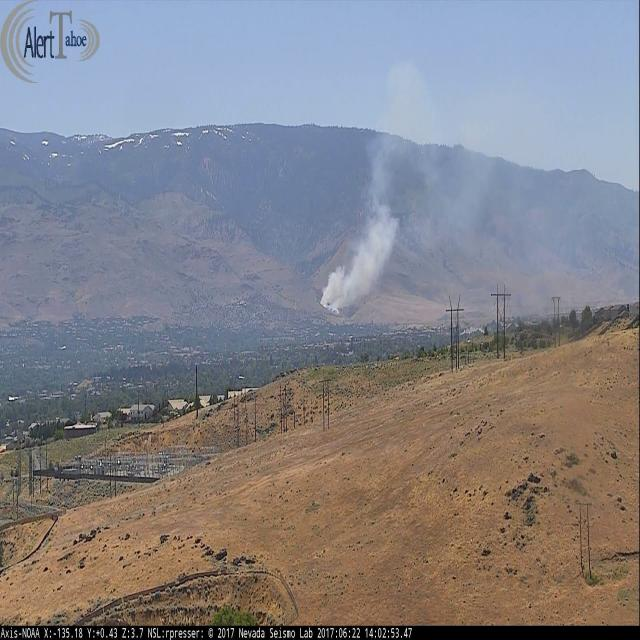smoke: (320, 202, 399, 314)
